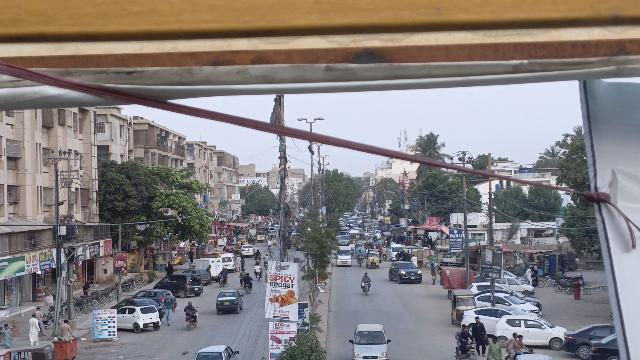Bike: (453, 340, 478, 360), (183, 314, 200, 330), (360, 281, 373, 296), (243, 281, 252, 296), (218, 274, 227, 288)
Car: (495, 314, 569, 349), (461, 305, 529, 338), (561, 321, 617, 359), (348, 321, 391, 360), (477, 292, 541, 317), (116, 304, 161, 333), (154, 272, 204, 298), (134, 286, 176, 309), (387, 261, 423, 286), (587, 331, 617, 360), (215, 289, 245, 315), (193, 344, 240, 360)
Person: (469, 314, 490, 358), (26, 313, 41, 345), (161, 293, 175, 326), (488, 335, 503, 360), (59, 318, 73, 341), (1, 323, 13, 349), (183, 300, 197, 315), (462, 326, 474, 341), (455, 324, 467, 339), (361, 271, 373, 281), (244, 271, 252, 283), (219, 266, 226, 275)
Rickshaw: (448, 286, 476, 325), (365, 248, 382, 270)
Truck: (190, 257, 224, 282)
Van: (336, 245, 352, 268)
